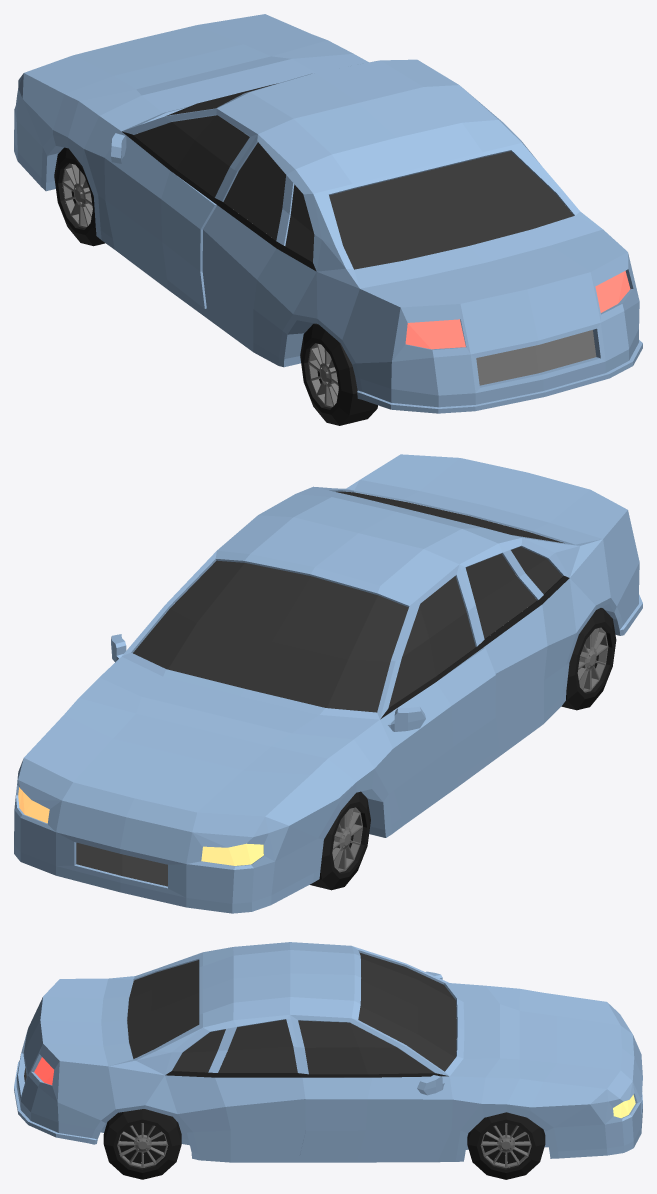
The model's file is NormalCar1.glb.
The picture shows the model from 3 angles, top to bottom: view 1: azimuth 30°, elevation 25°; view 2: azimuth 150°, elevation 25°; view 3: azimuth 270°, elevation 25°; orthographic projection. The views are drawn at different scales.
Visible parts, largest first — view 1: Blue, Windows, Black, Grey, TailLights; view 2: Blue, Windows, Black, Grey, Headlights; view 3: Blue, Windows, Black, Grey.
Boxes of the visible parts, x1,y1,x2,y2 form: Blue: [14, 14, 642, 413]; Windows: [134, 83, 573, 269]; Black: [54, 131, 377, 425]; Grey: [62, 163, 596, 407]; TailLights: [405, 271, 630, 349]; Blue: [14, 454, 642, 913]; Windows: [133, 491, 564, 712]; Black: [310, 576, 616, 890]; Grey: [76, 627, 608, 886]; Headlights: [18, 787, 263, 865]; Blue: [14, 942, 642, 1162]; Windows: [127, 952, 456, 1074]; Black: [103, 1071, 545, 1179]; Grey: [24, 1068, 531, 1168].
Size of the model in its own units: 1.81 by 1.18 by 4.22.
